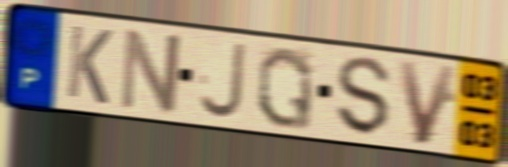J: (196, 39, 248, 122)
K: (64, 22, 116, 109)
N: (116, 25, 184, 117)
Q: (255, 43, 315, 133)
S: (335, 54, 394, 140)
V: (395, 57, 461, 148)
